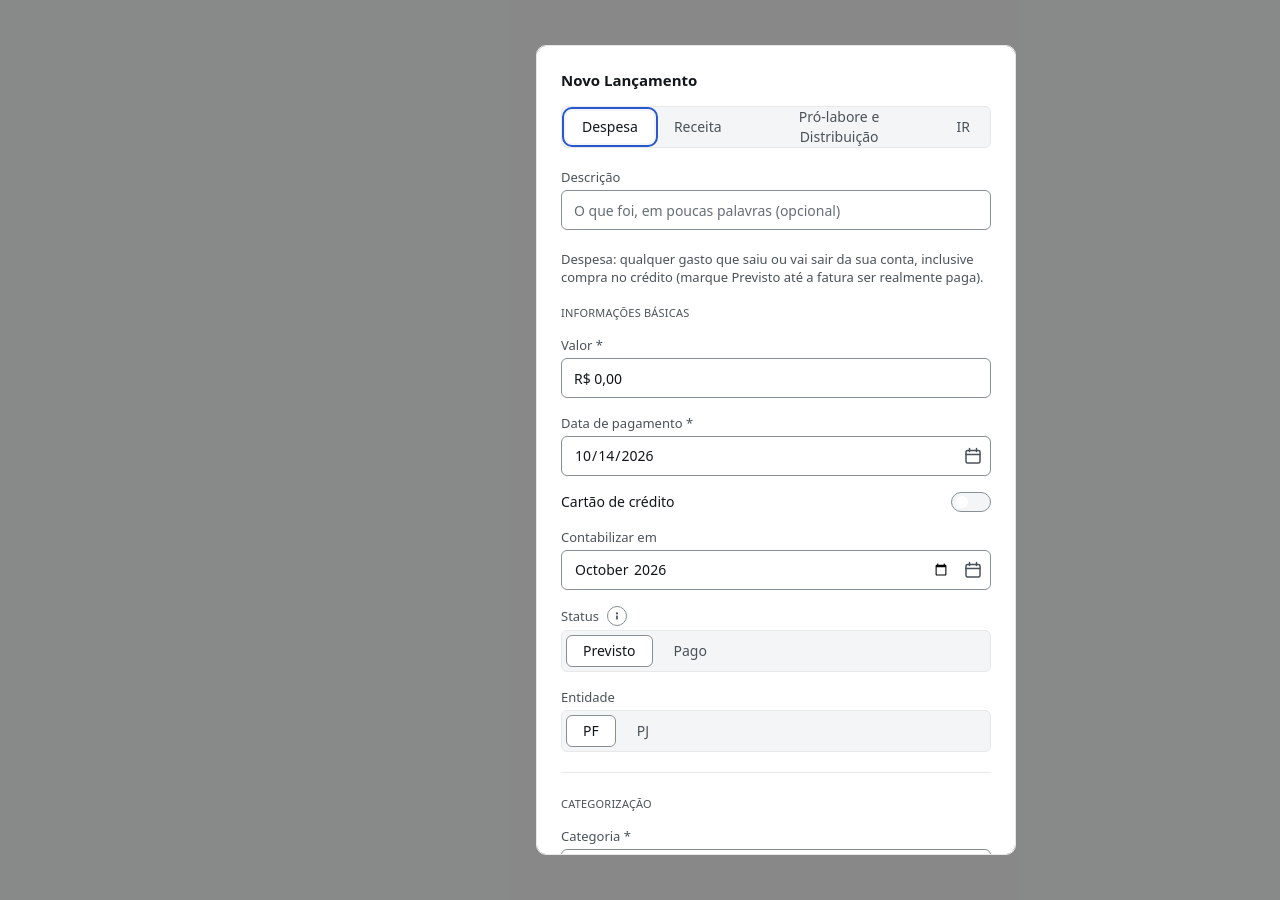
it: Novo Lançamento — Pró-labore salva › relato de 2026-09-29: sem a conta de destino, não fica mudo — diz ao lado do botão o que falta
Click the tab "Pró-labore e Distribuição". click: (839, 127)
box: x1=742 y1=111 x2=936 y2=143
(page scrolled)
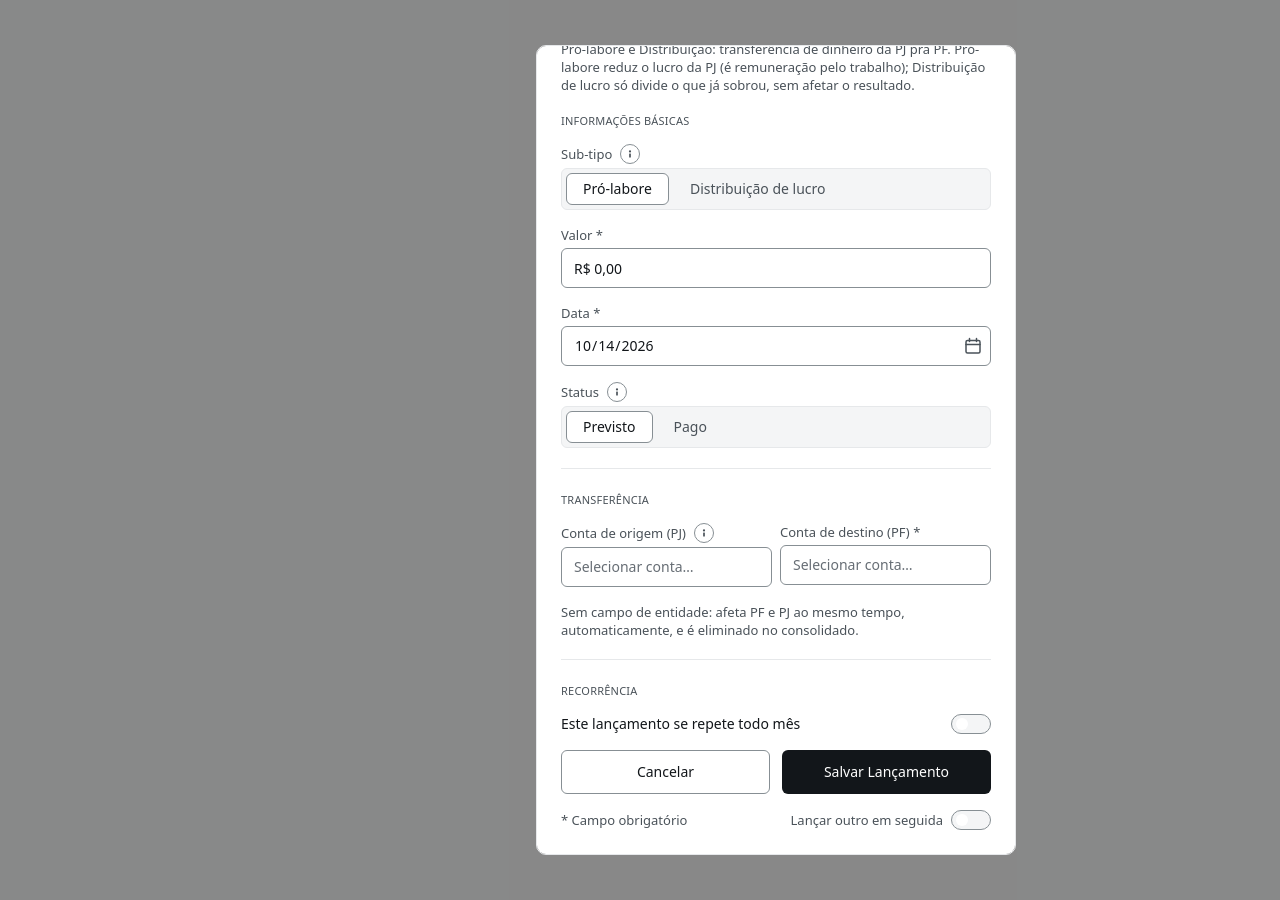
Click the button "Salvar Lançamento". click: (886, 772)
box: x1=782 y1=750 x2=991 y2=794
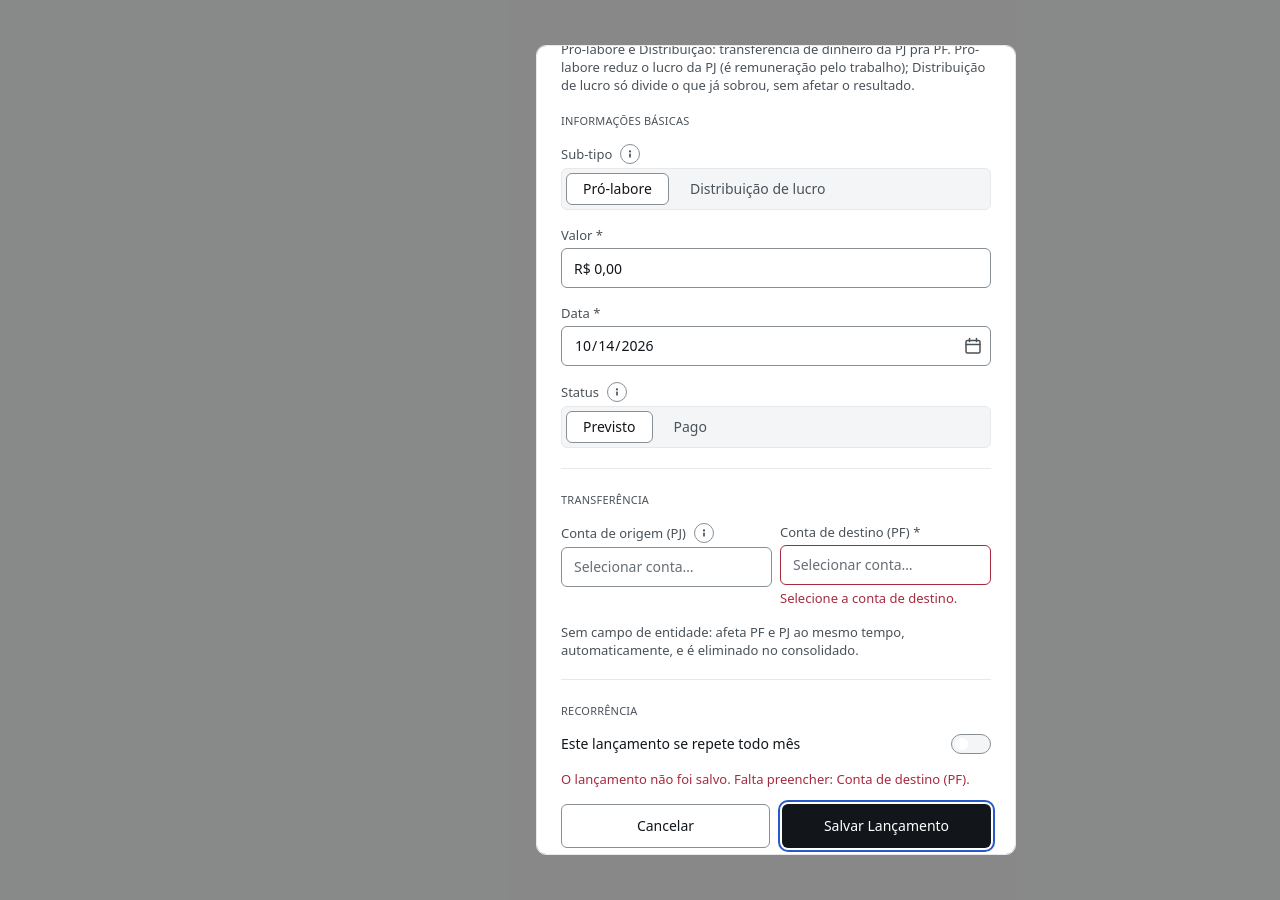
Result: the text "O lançamento não foi salvo. Falta preencher: Conta de destino (PF)." is shown at x1=561 y1=770 x2=991 y2=788
